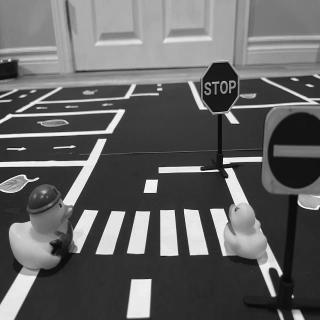duck_regular: (225, 205, 269, 263)
duck_specialty: (10, 186, 75, 274)
road_crosswalk: (68, 205, 243, 260)
road_oneway: (5, 142, 29, 155), (53, 143, 79, 153), (64, 104, 84, 112), (100, 103, 117, 109), (36, 106, 50, 112)
sign_noentry: (264, 107, 320, 197)
sign_stop: (203, 63, 240, 115)
